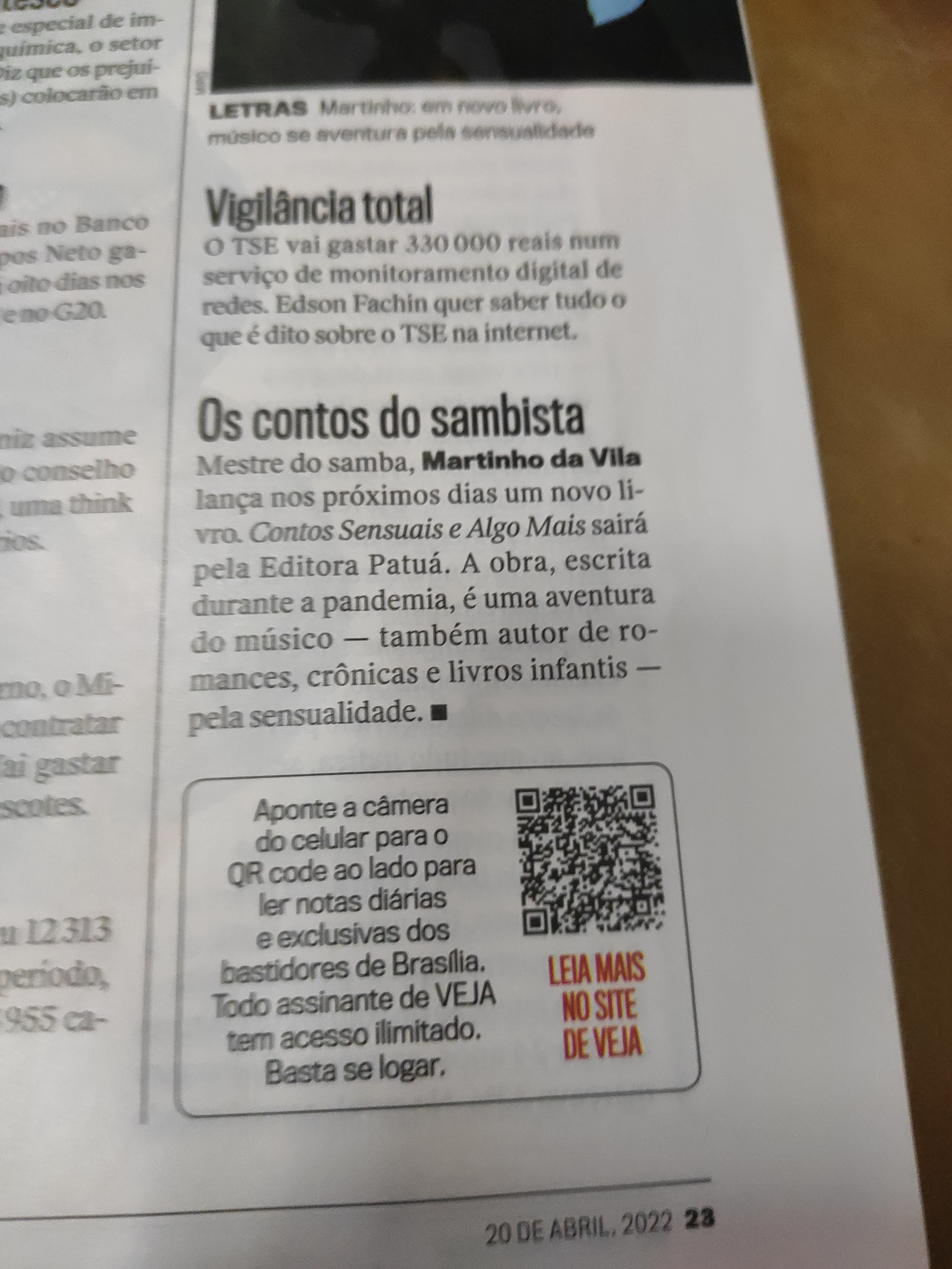QR-CODE: (515, 784, 667, 936)
